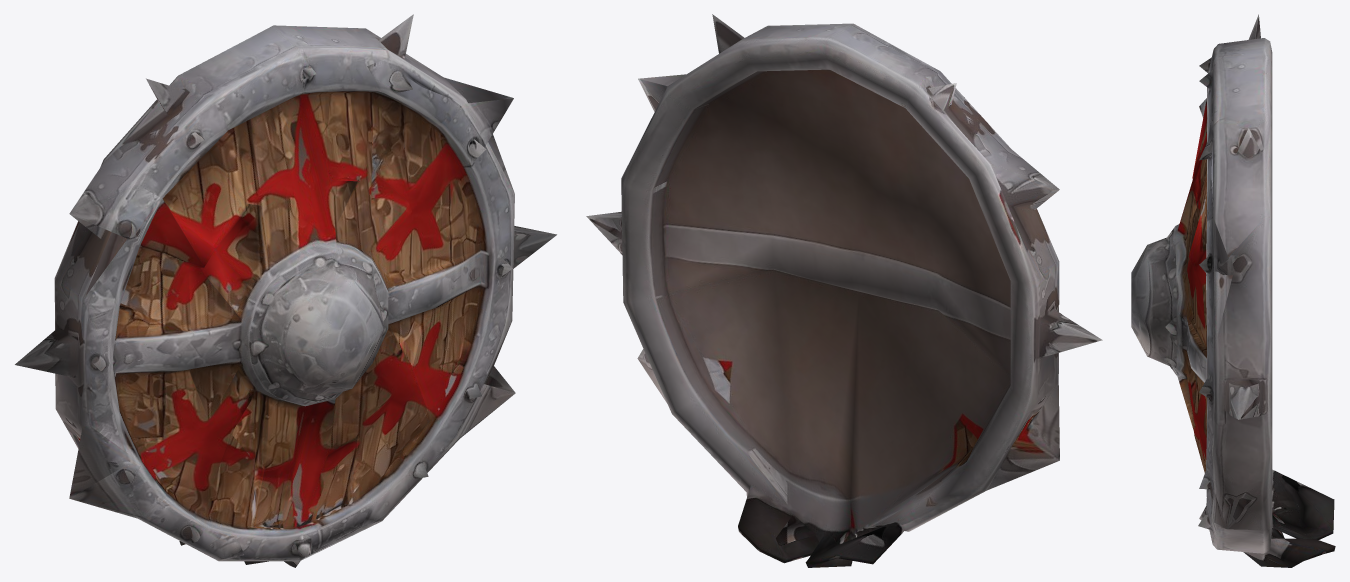
File: orcshield_raw.glb
3 views of the same model, side by side, from view 1: azimuth 30°, elevation 25°; view 2: azimuth 150°, elevation 25°; view 3: azimuth 270°, elevation 25° (orthographic). The views are drawn at different scales.
Visible parts, largest first — view 1: tripo_node_9555892c-c028-4b8d-ba26-a623f088df87; view 2: tripo_node_9555892c-c028-4b8d-ba26-a623f088df87; view 3: tripo_node_9555892c-c028-4b8d-ba26-a623f088df87.
Part boxes in pixels (<box>): tripo_node_9555892c-c028-4b8d-ba26-a623f088df87: <box>15,14,556,567</box>; tripo_node_9555892c-c028-4b8d-ba26-a623f088df87: <box>586,14,1102,567</box>; tripo_node_9555892c-c028-4b8d-ba26-a623f088df87: <box>1131,14,1335,567</box>.
Bounding box in the file's own units: 1 × 0.9608 × 0.3542.
1 material, 1 textured.
